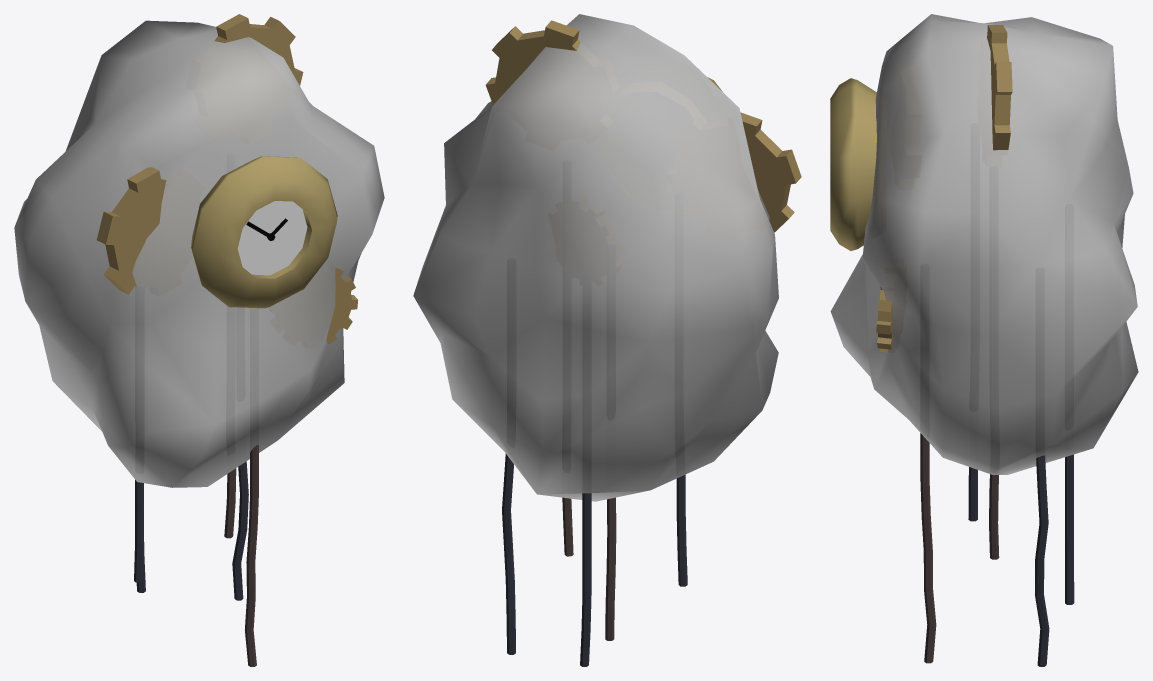
The model's file is MOD_cloud.fbx.
3 views of the same model, side by side, from view 1: azimuth 30°, elevation 25°; view 2: azimuth 150°, elevation 25°; view 3: azimuth 270°, elevation 25° (orthographic). The views are drawn at different scales.
Visible parts, largest first — view 1: p_Cloud, p_clock, pGear1, pGear3, pWire3, pWire2, pGear2, pWire1, pWire5; view 2: p_Cloud, pGear1, pGear3, pWire2, pWire4, pWire3, pWire1, pWire5; view 3: p_Cloud, p_clock, pGear3, pWire3, pWire2, pWire4, pGear2, pWire5, pWire1.
Boxes of the visible parts, bbox=[...] form: p_Cloud: bbox=[14, 20, 384, 487]; p_clock: bbox=[191, 156, 337, 308]; pGear1: bbox=[96, 167, 166, 294]; pGear3: bbox=[214, 14, 303, 85]; pWire3: bbox=[245, 445, 258, 666]; pWire2: bbox=[232, 461, 248, 600]; pGear2: bbox=[326, 268, 357, 344]; pWire1: bbox=[134, 480, 143, 582]; pWire5: bbox=[224, 468, 236, 538]; p_Cloud: bbox=[413, 14, 778, 501]; pGear1: bbox=[740, 112, 801, 232]; pGear3: bbox=[485, 20, 580, 104]; pWire2: bbox=[502, 454, 515, 654]; pWire4: bbox=[580, 493, 591, 666]; pWire3: bbox=[605, 497, 616, 640]; pWire1: bbox=[676, 474, 687, 586]; pWire5: bbox=[562, 497, 573, 556]; p_Cloud: bbox=[830, 14, 1138, 474]; p_clock: bbox=[830, 78, 876, 250]; pGear3: bbox=[987, 25, 1012, 150]; pWire3: bbox=[920, 433, 936, 663]; pWire2: bbox=[1035, 455, 1049, 666]; pWire4: bbox=[1065, 454, 1074, 604]; pGear2: bbox=[876, 286, 892, 352]; pWire5: bbox=[989, 474, 999, 559]; pWire1: bbox=[968, 467, 977, 521].
Bounding box in the file's own units: 6.35 × 11.79 × 5.12.
